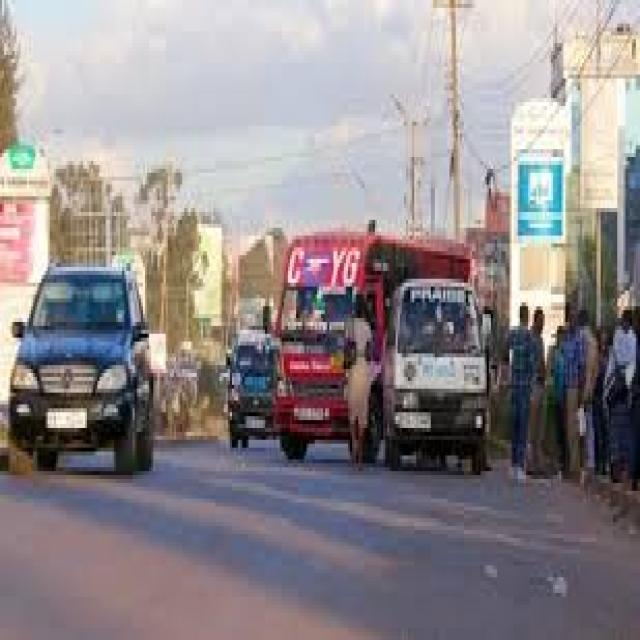bus: (274, 211, 385, 473)
matatu: (385, 256, 510, 496), (218, 290, 273, 469)
